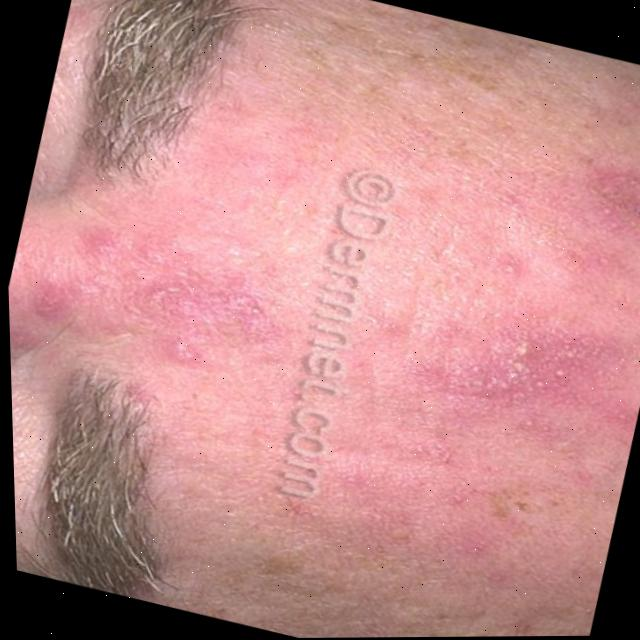Rosacea: (1, 16, 640, 598)
